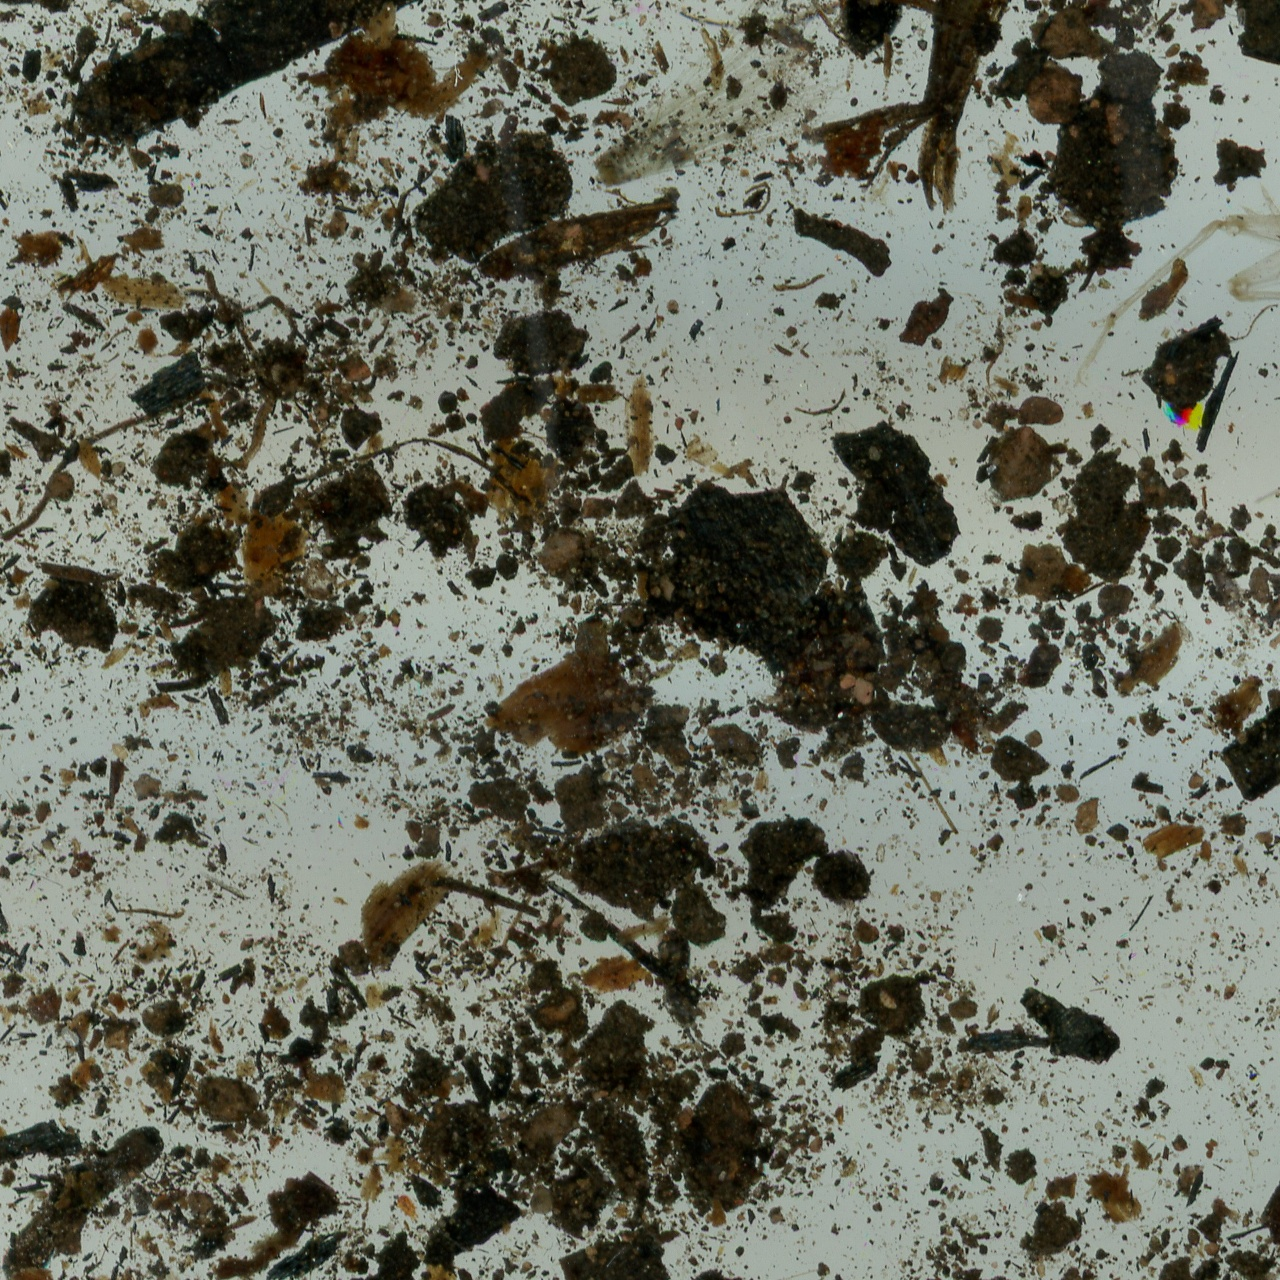arthropod: (1072, 164, 1280, 513), (774, 0, 949, 61), (1196, 541, 1263, 643), (958, 134, 1033, 208), (0, 0, 46, 22), (395, 1194, 422, 1225)
